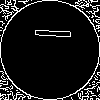I: (25, 25, 71, 42)
